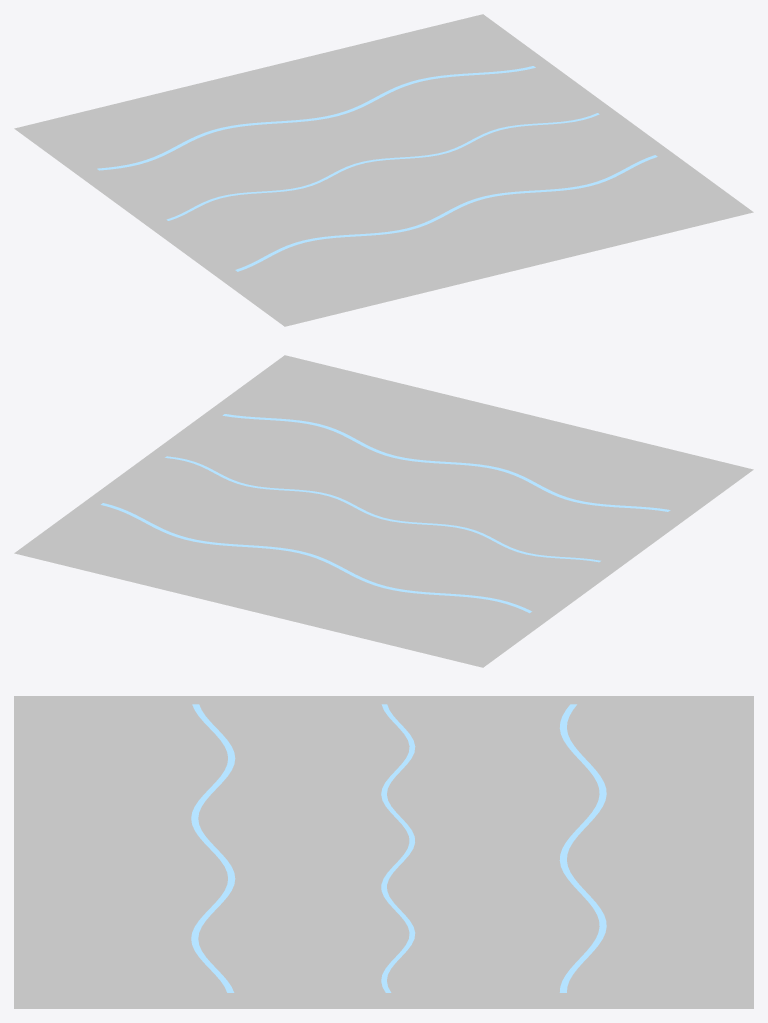
Rendered from water.glb.
The picture shows the model from 3 angles, top to bottom: view 1: azimuth 30°, elevation 25°; view 2: azimuth 150°, elevation 25°; view 3: azimuth 270°, elevation 25°; orthographic projection. The views are drawn at different scales.
Visible parts, largest first — view 1: WATER, WAVE_2, WAVE_0, WAVE_1; view 2: WATER, WAVE_0, WAVE_2, WAVE_1; view 3: WATER, WAVE_0, WAVE_2, WAVE_1.
Part boxes in pixels (box(x1,y1,x2,y2)): WATER: box(14, 14, 753, 326); WAVE_2: box(97, 66, 535, 170); WAVE_0: box(235, 155, 657, 271); WAVE_1: box(166, 113, 599, 220); WATER: box(14, 355, 753, 667); WAVE_0: box(222, 414, 670, 511); WAVE_2: box(101, 503, 531, 613); WAVE_1: box(165, 456, 600, 562); WATER: box(14, 696, 753, 1008); WAVE_0: box(191, 704, 235, 992); WAVE_2: box(559, 704, 606, 992); WAVE_1: box(381, 704, 415, 992).
Size of the model in its own units: 1.04 by 0.006 by 1.04.
